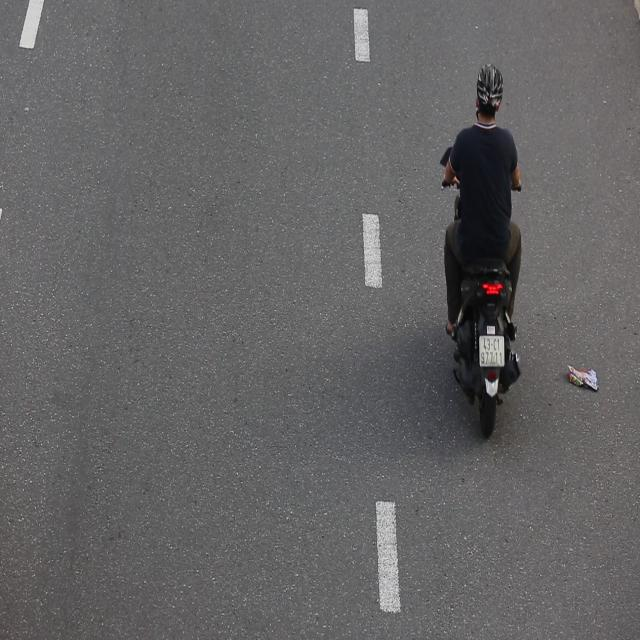motorbike: (438, 54, 529, 436)
